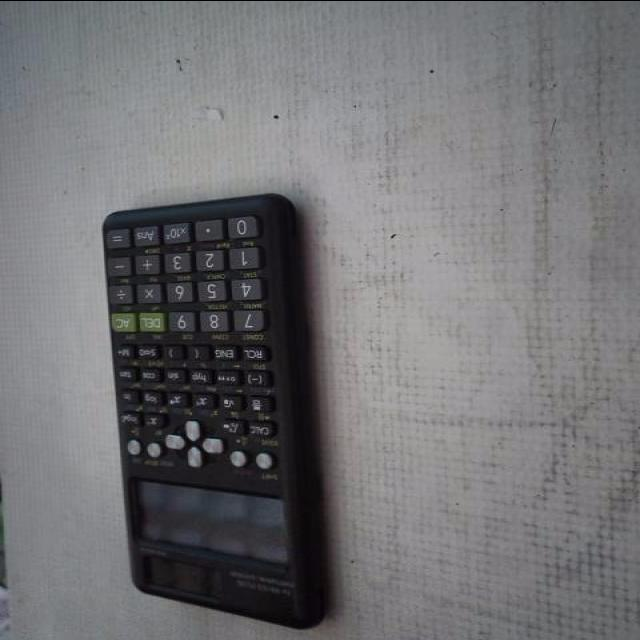Calculator: (98, 190, 330, 631)
